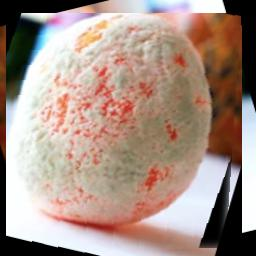Orange Rotten: (6, 13, 242, 256)
